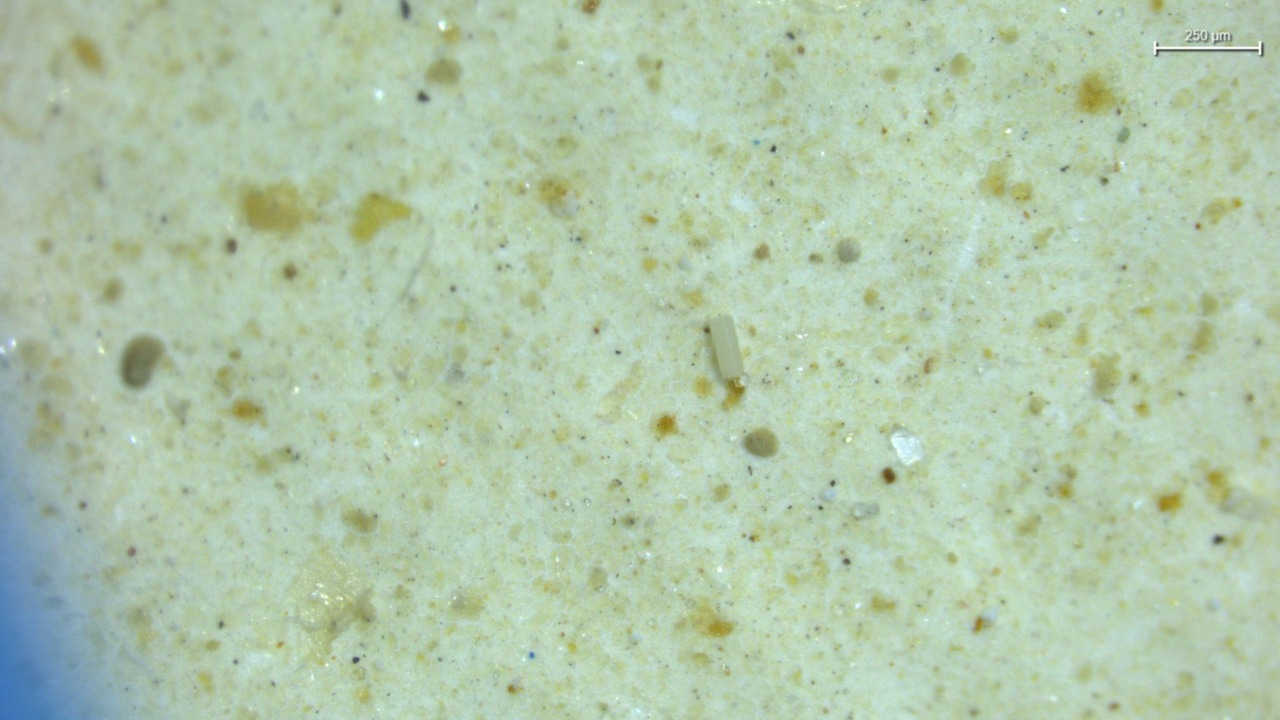microplastic_fragment: (281, 553, 375, 660), (708, 315, 743, 380), (890, 430, 924, 466)
